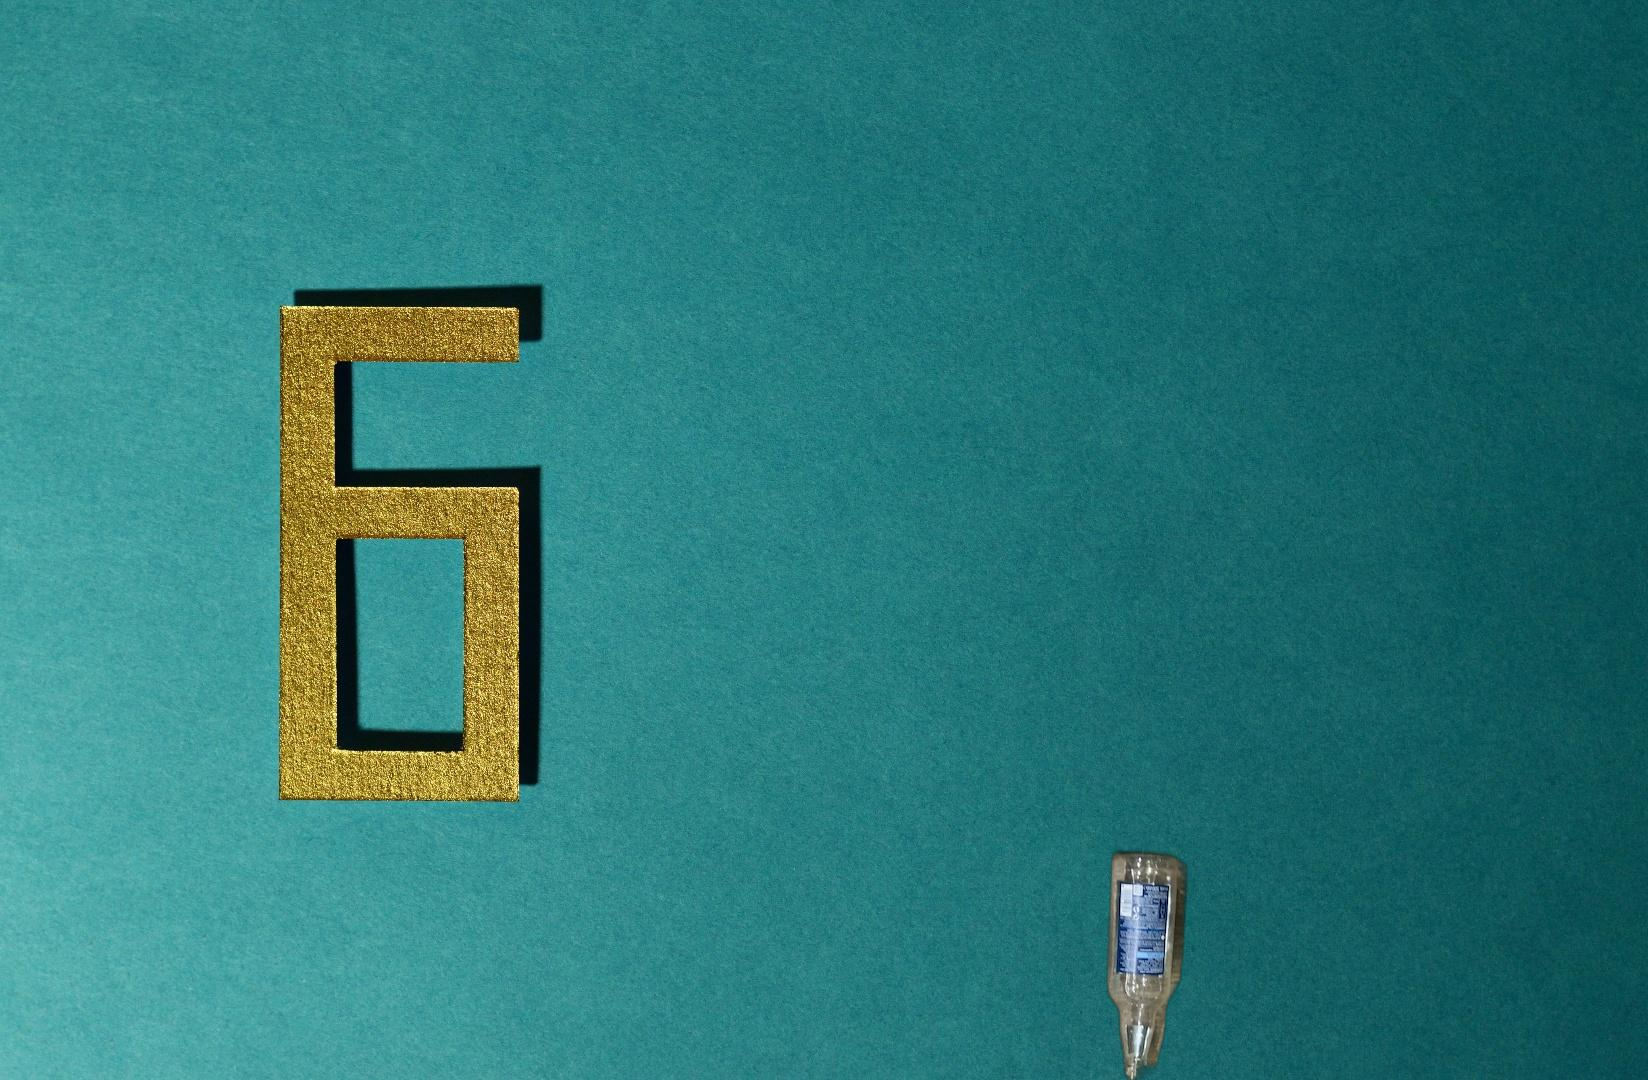glass: (1103, 845, 1192, 1080)
